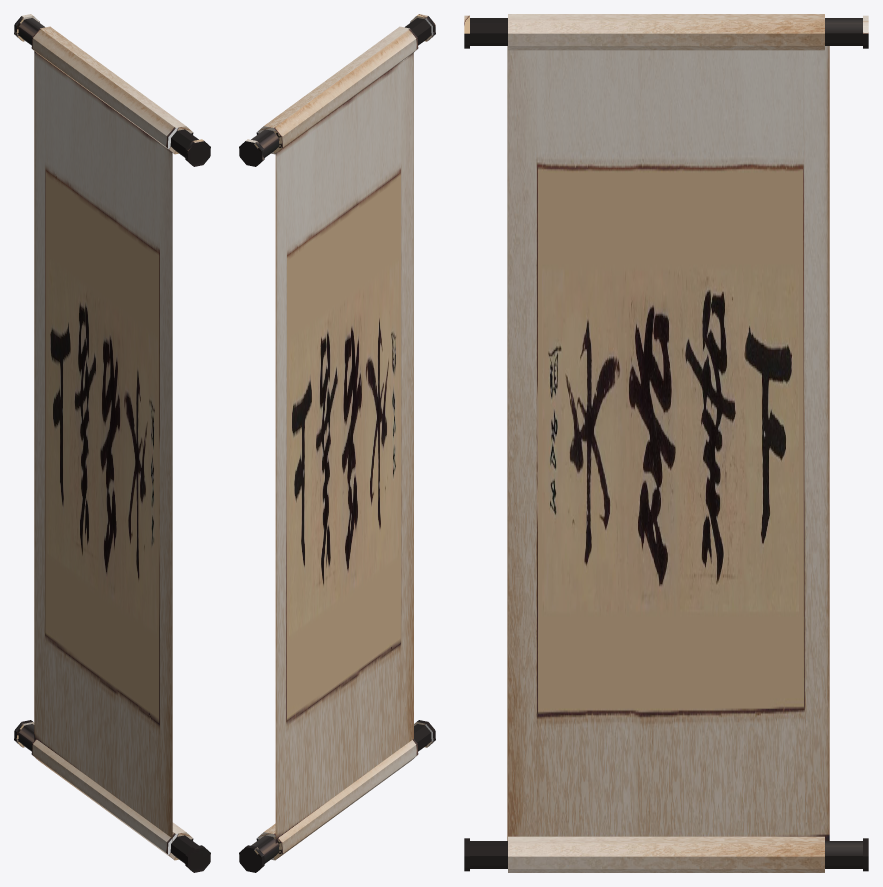
The model's file is painting3_test.fbx.
The picture shows the model from 3 angles, left to right: view 1: azimuth 30°, elevation 25°; view 2: azimuth 150°, elevation 25°; view 3: azimuth 270°, elevation 25°; orthographic projection. The views are drawn at different scales.
Parts seen in each view (by area): view 1: Cylinder.004; view 2: Cylinder.004; view 3: Cylinder.004.
Boxes of the visible parts, bbox=[...] form: Cylinder.004: bbox=[14, 14, 210, 872]; Cylinder.004: bbox=[239, 14, 435, 872]; Cylinder.004: bbox=[464, 14, 868, 872].
Size of the model in its own units: 4.94 by 136 by 58.43.
Materials: 1 (1 with a texture image).
